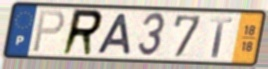3: (135, 11, 167, 60)
7: (171, 14, 203, 59)
A: (94, 13, 132, 57)
P: (30, 9, 67, 54)
R: (59, 7, 105, 58)
T: (209, 16, 234, 59)
